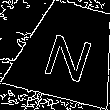N_N: (38, 22, 98, 81)
